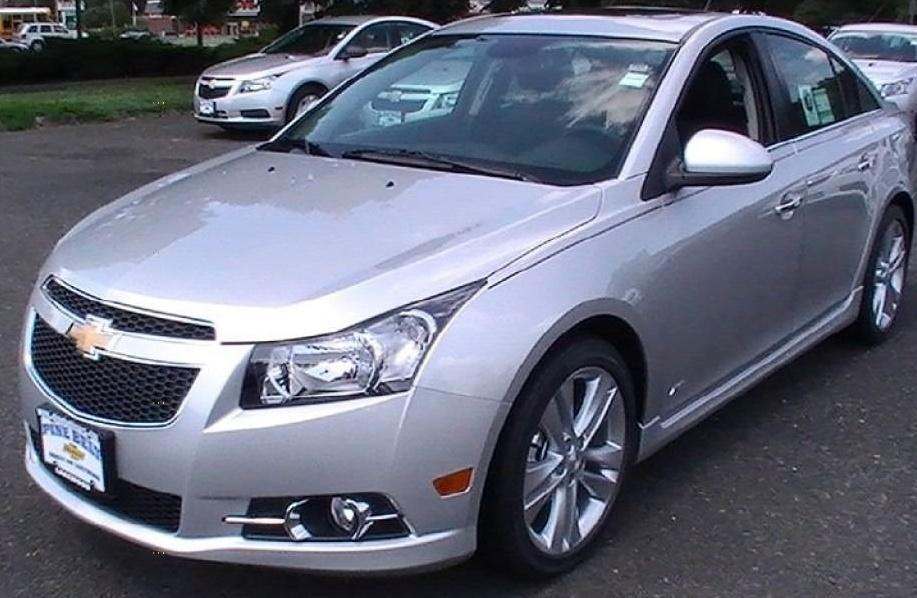Cars: (21, 17, 917, 576)
